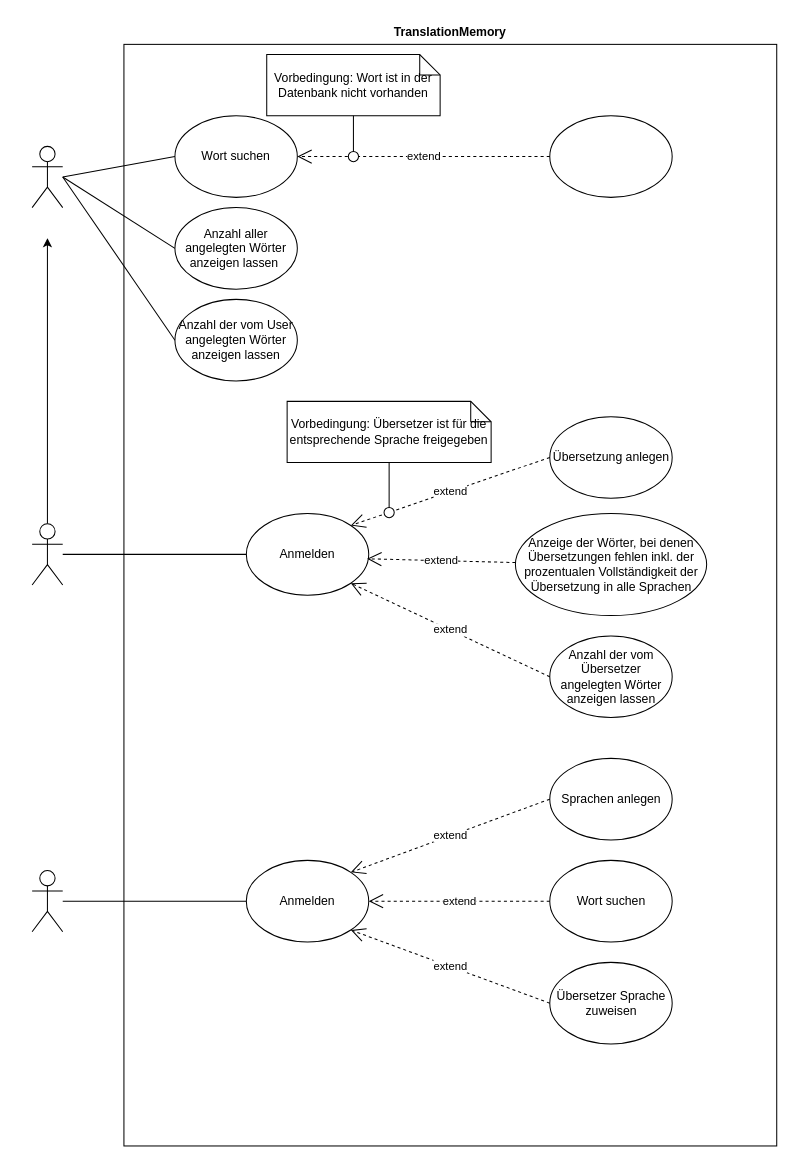
This 795x1164 diagram has some shape labels left out. Each missing label, with the centre of its shape:
"Admin" goes at (x=47, y=901).
"User" goes at (x=47, y=176).
"Wort anlegen" goes at (x=610, y=156).
"Übersetzer" goes at (x=47, y=554).
